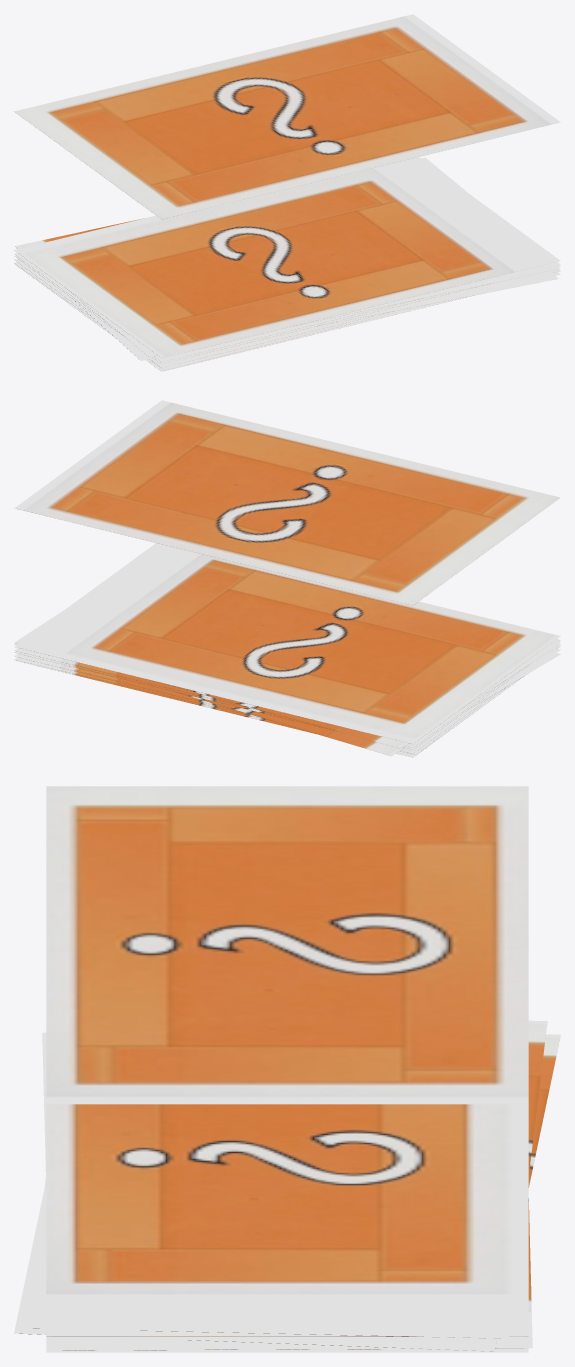
Rendered from Chance.fbx.
The picture shows the model from 3 angles, top to bottom: view 1: azimuth 30°, elevation 25°; view 2: azimuth 150°, elevation 25°; view 3: azimuth 270°, elevation 25°; orthographic projection. The views are drawn at different scales.
Visible parts, largest first — view 1: polySurface2, polySurface1; view 2: polySurface2, polySurface1; view 3: polySurface1, polySurface2.
Part boxes in pixels (<box>): polySurface2: <box>14,157,560,371</box>; polySurface1: <box>14,14,560,219</box>; polySurface2: <box>14,543,560,757</box>; polySurface1: <box>14,400,560,605</box>; polySurface1: <box>46,786,528,1104</box>; polySurface2: <box>14,1020,560,1352</box>.
Bounding box in the file's own units: 652 × 226 × 450.
